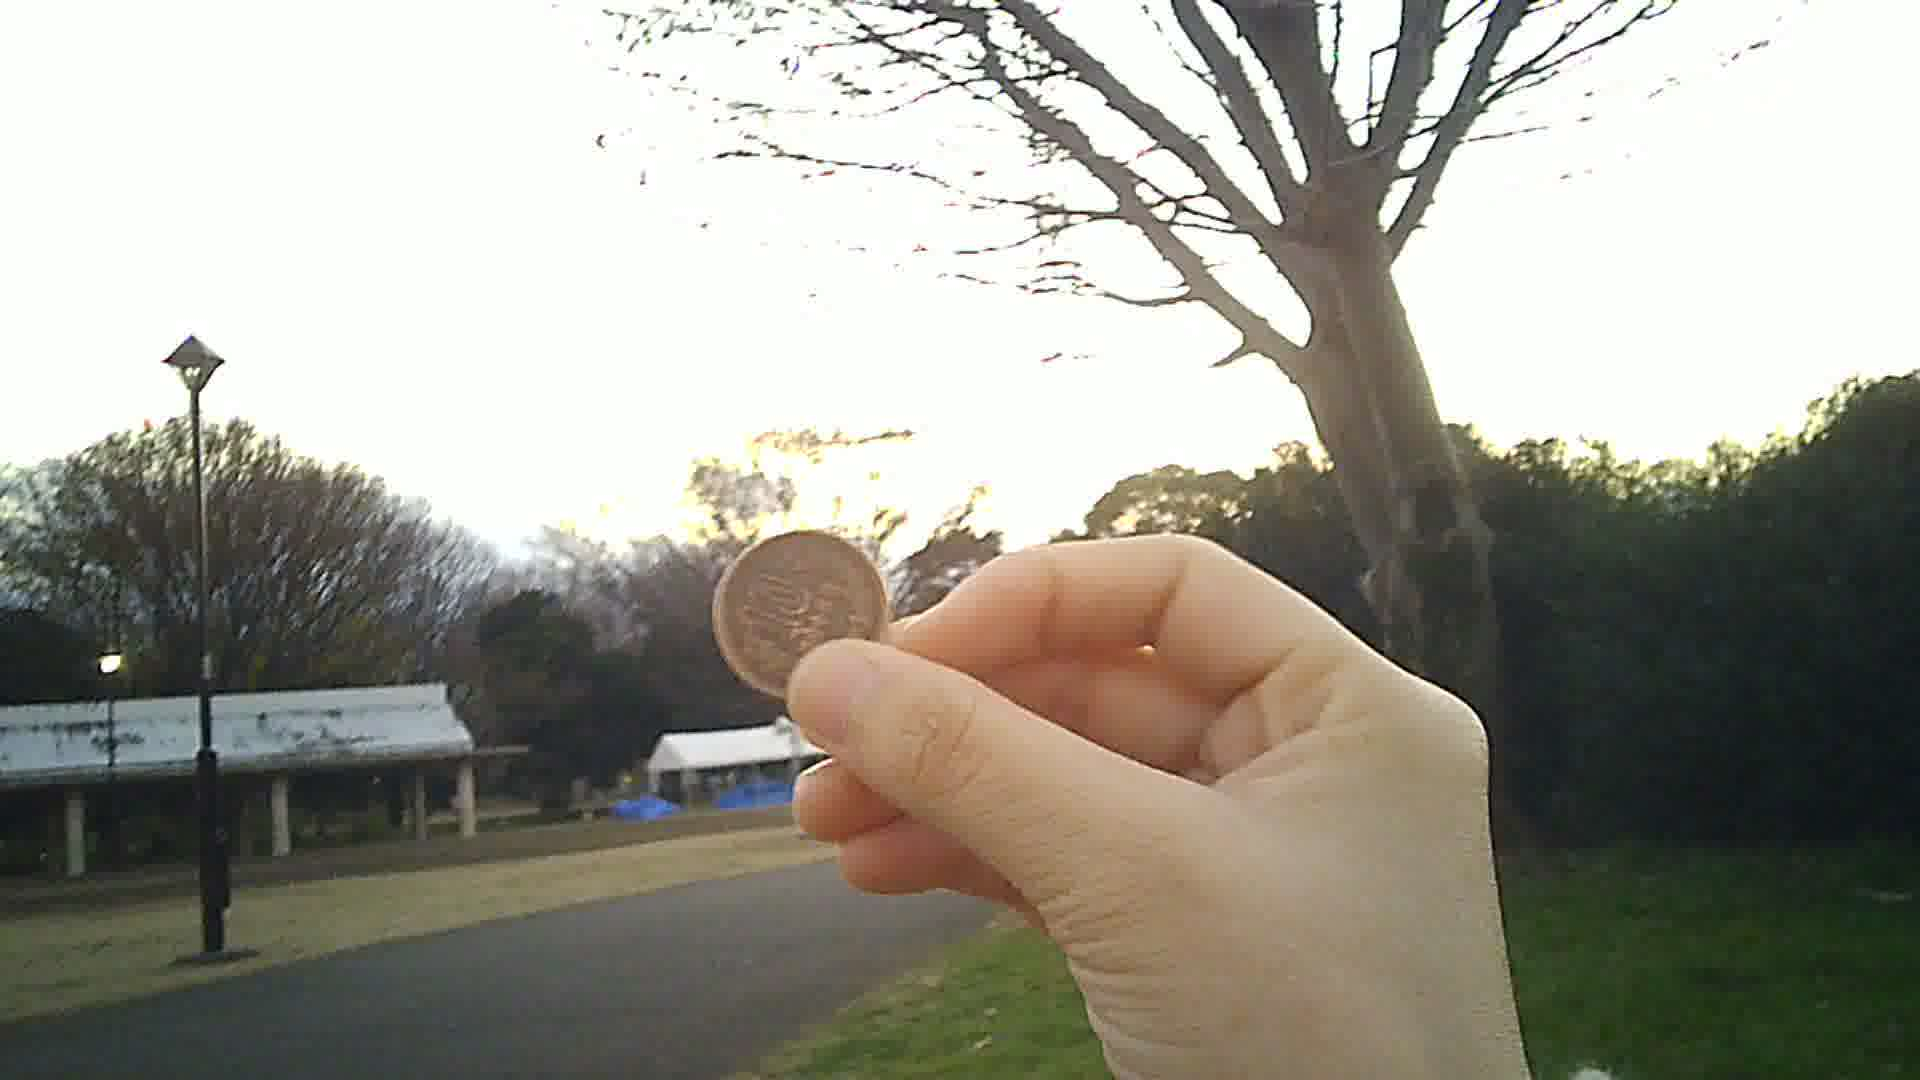10 Yen: (708, 533, 887, 694)
